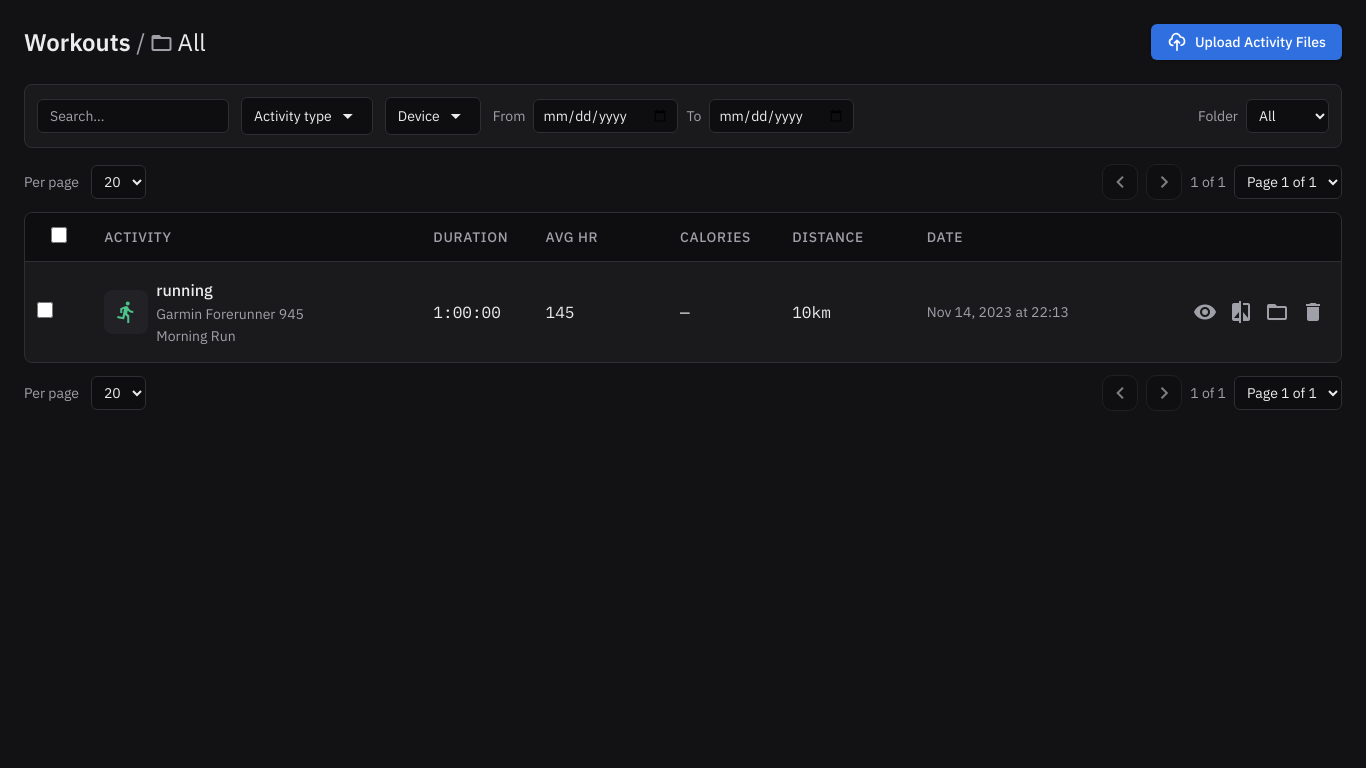
Test: Workouts › opens single-delete flow when row Delete is clicked
Click the button named "Delete" at (1313, 312), box [1297, 296, 1329, 328]
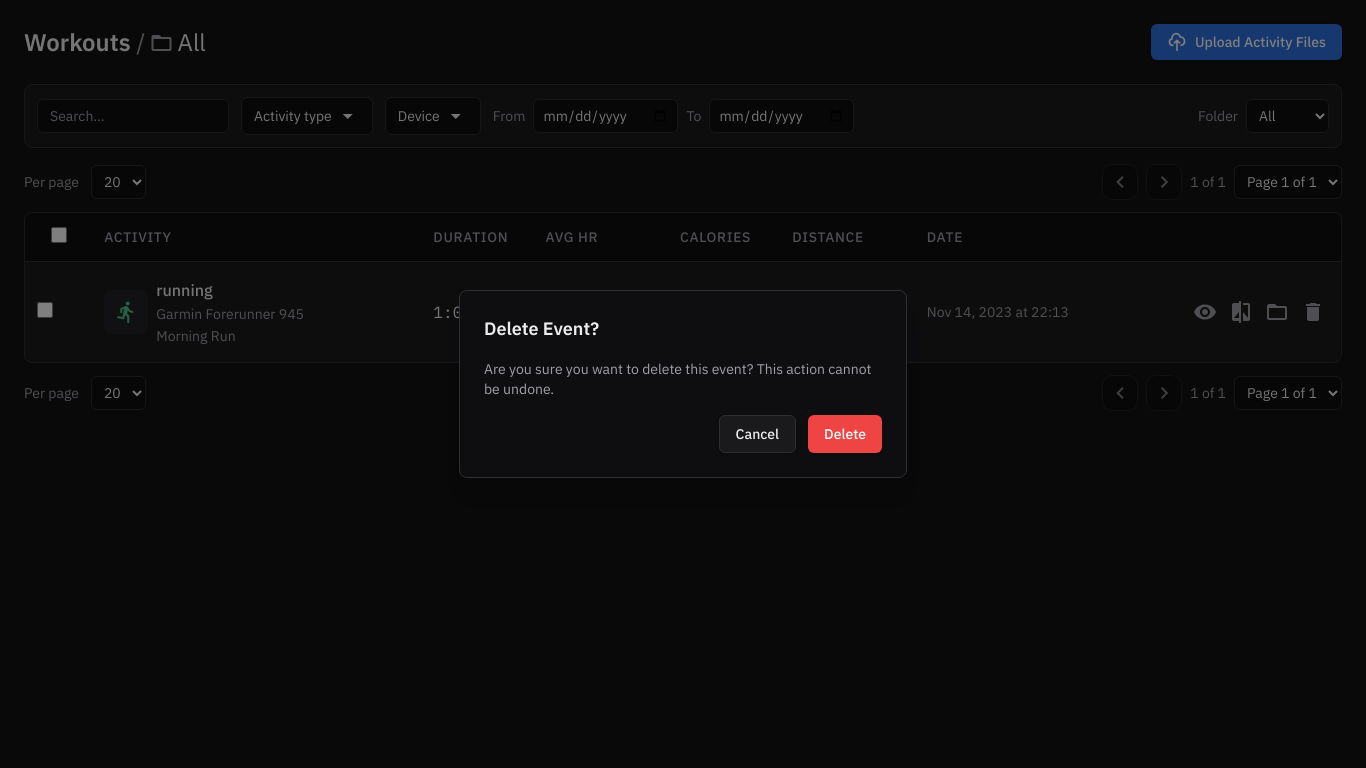
Result: the dialog is shown
